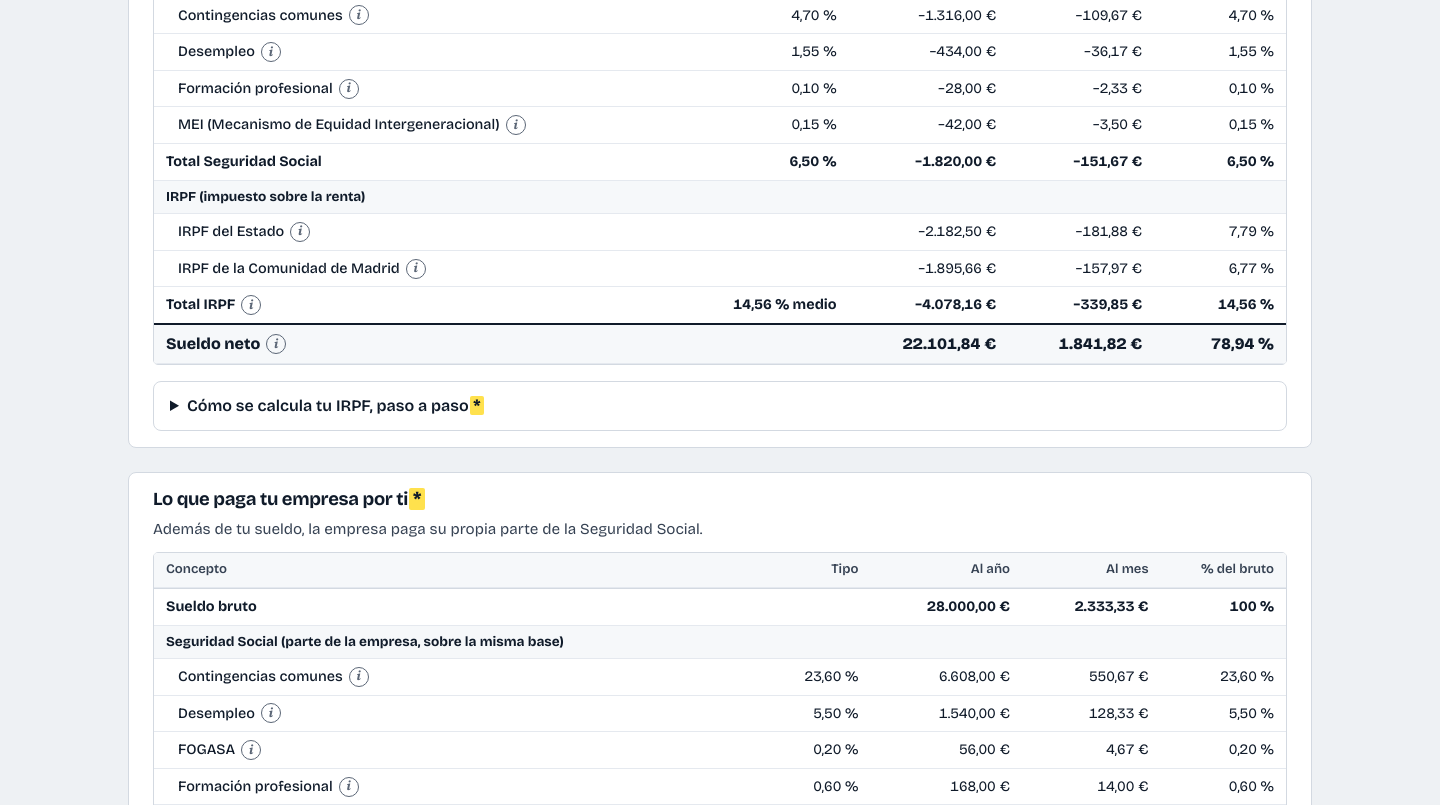
Simulador › el IRPF se explica paso a paso con las dos escalas
(page scrolled)
What coordinates should you click on to do the following:
click the heading "Cómo se calcula tu IRPF, paso a paso*"
I would click on:
 (335, 405)
Its box is [187,396,484,415].
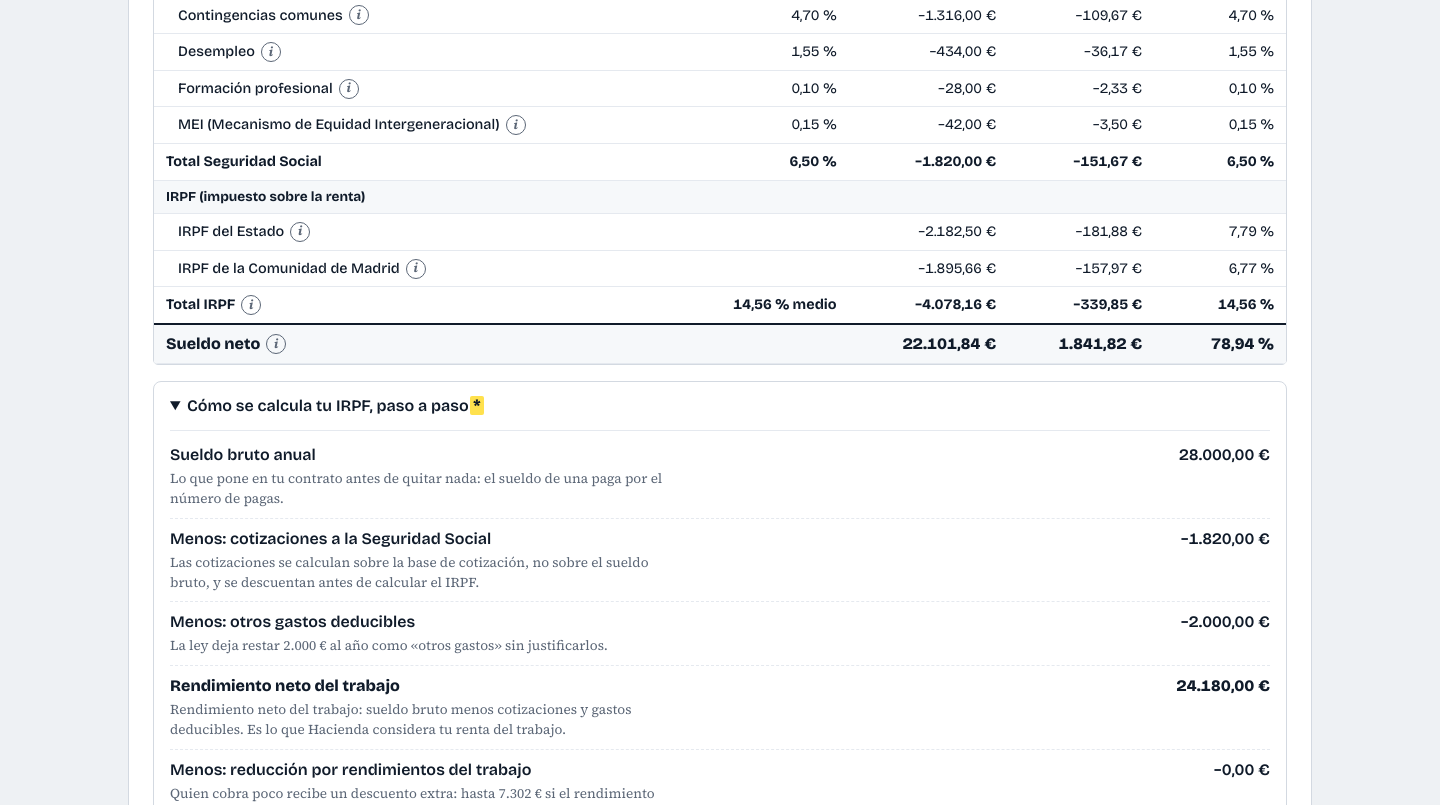
expect the text "Rendimiento neto del trabajo" is shown: met, box [170,674,400,698]
